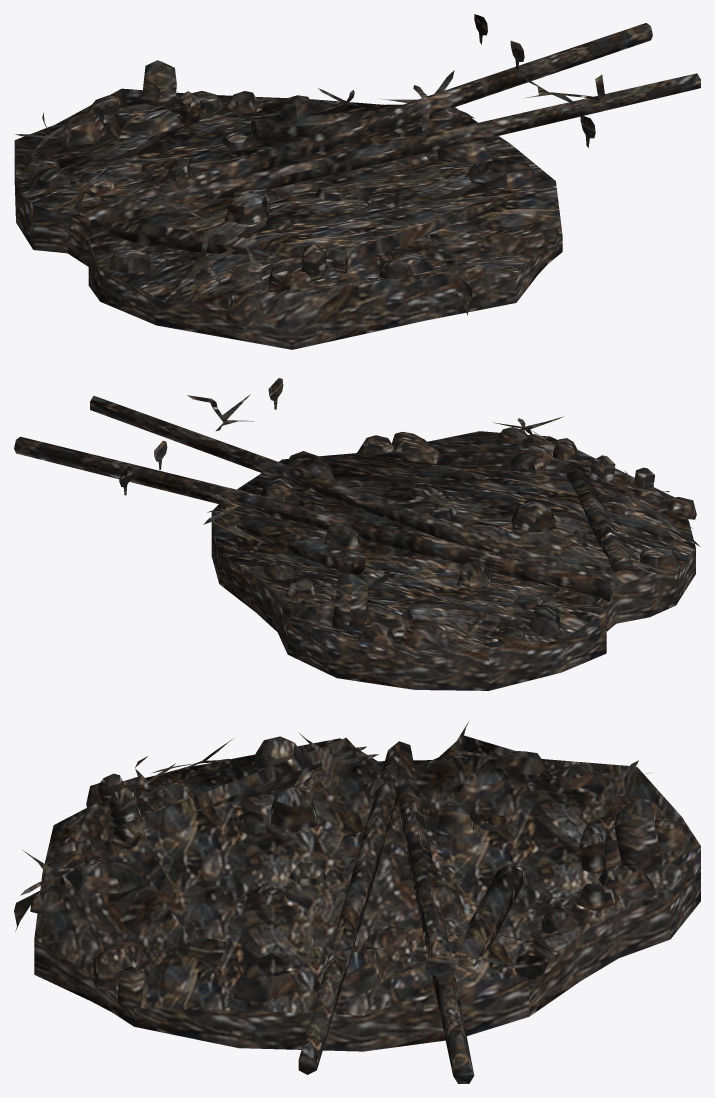
The model's file is mud_bog.glb.
3 renders of one model, top to bottom at view 1: azimuth 30°, elevation 25°; view 2: azimuth 150°, elevation 25°; view 3: azimuth 270°, elevation 25°, orthographic. The views are drawn at different scales.
Parts seen in each view (by area): view 1: mud_bog; view 2: mud_bog; view 3: mud_bog.
Part boxes in pixels (x1,y1,x2,y2): mud_bog: (14,14,700,349); mud_bog: (14,378,699,690); mud_bog: (14,721,700,1083).
Bounding box in the file's own units: 0.4204 × 0.0649 × 0.3301.
1 material, 1 textured.
